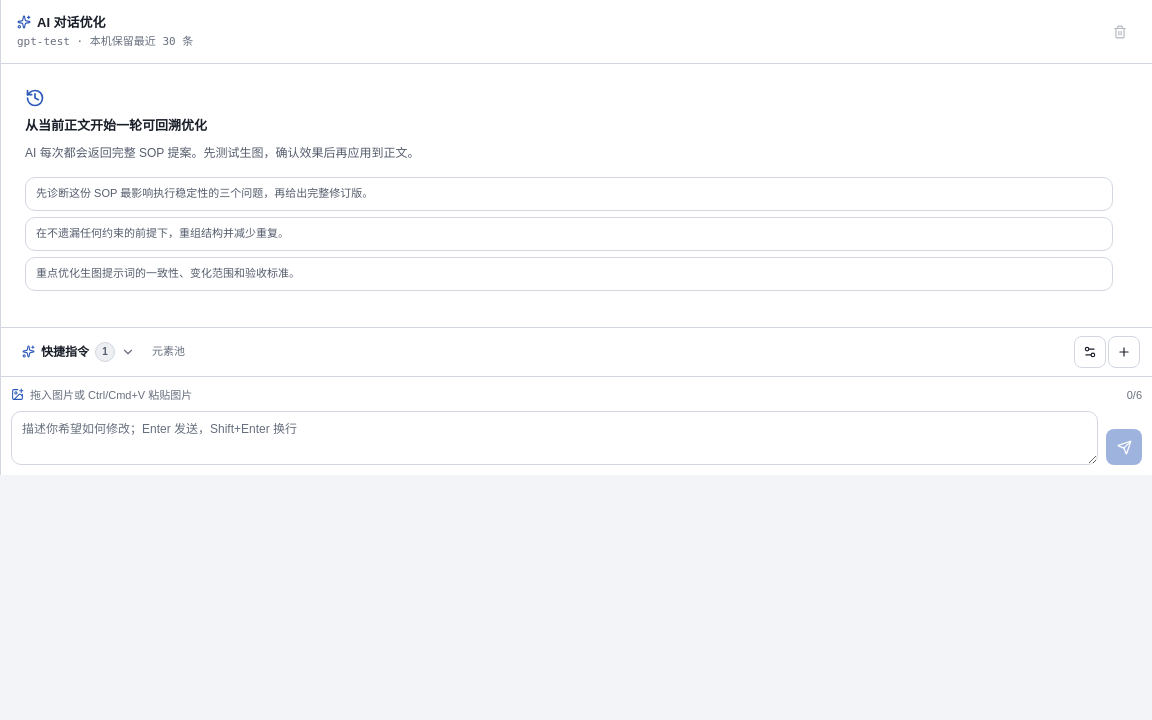
Test case: SopAiRevisionPanel custom quick instructions › fills parameterized instructions with selected values instead of placeholders
Click the button "快捷指令 1" at (78, 352), box [13, 336, 144, 368]
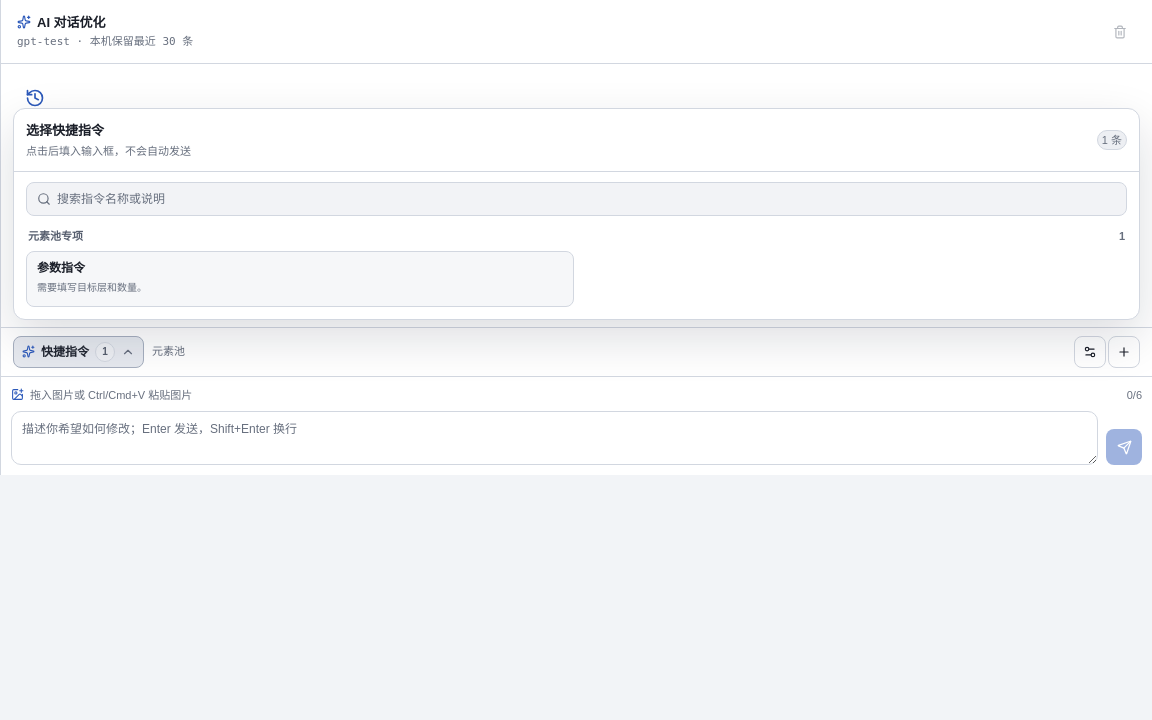
Click the button "参数指令 需要填写目标层和数量。" at (61, 268), box [26, 250, 574, 306]
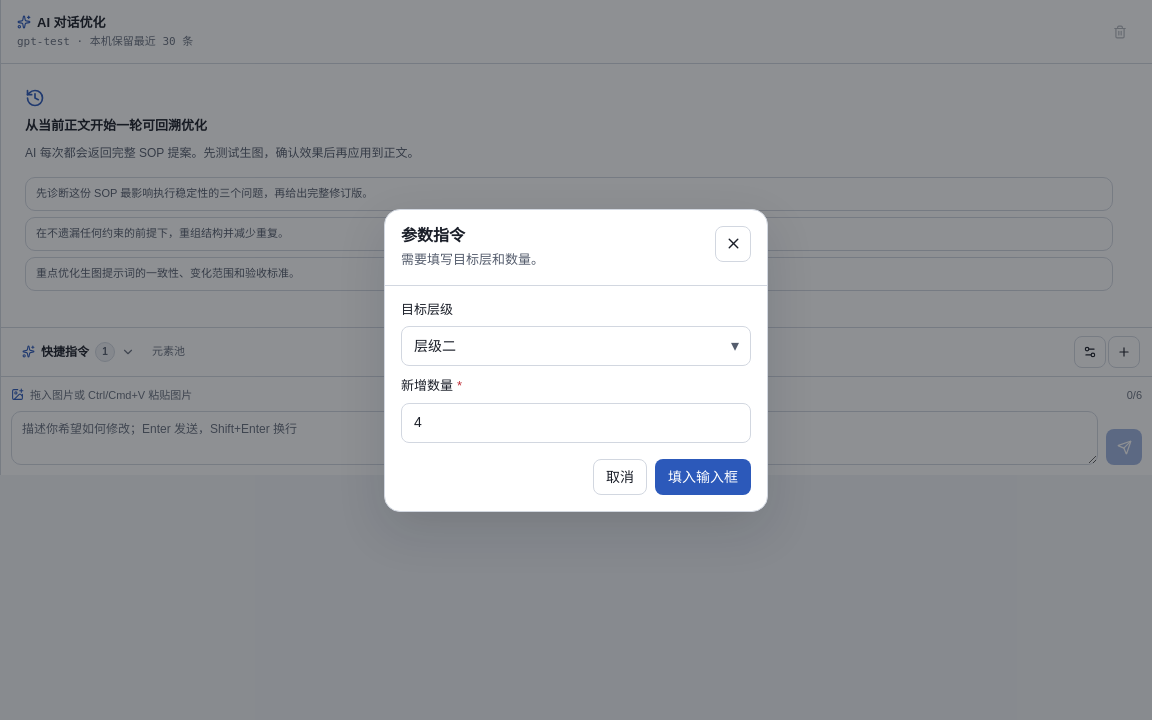
Select "层级二" in the dropdown labelled "目标层级" at (576, 346), box [401, 326, 751, 366]
Replace the text in the number field labelled "新增数量*" with "6" at (576, 422), box [401, 402, 751, 442]
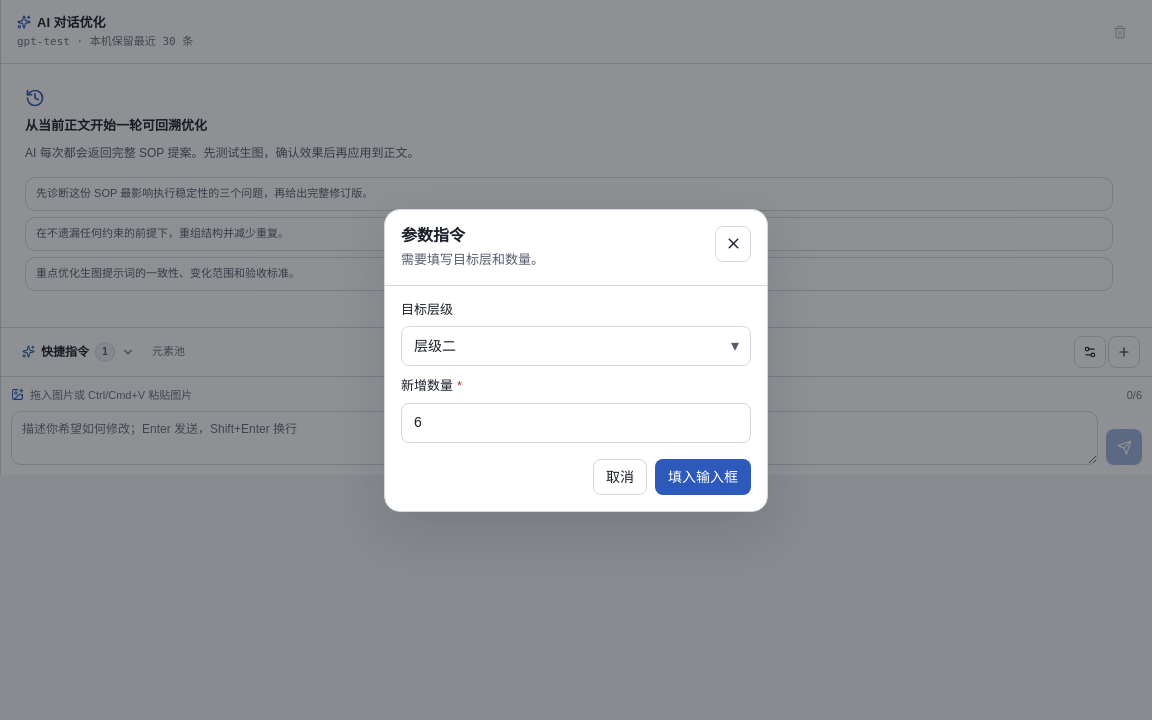
Click the button "填入输入框" at (703, 476), box [655, 458, 751, 494]
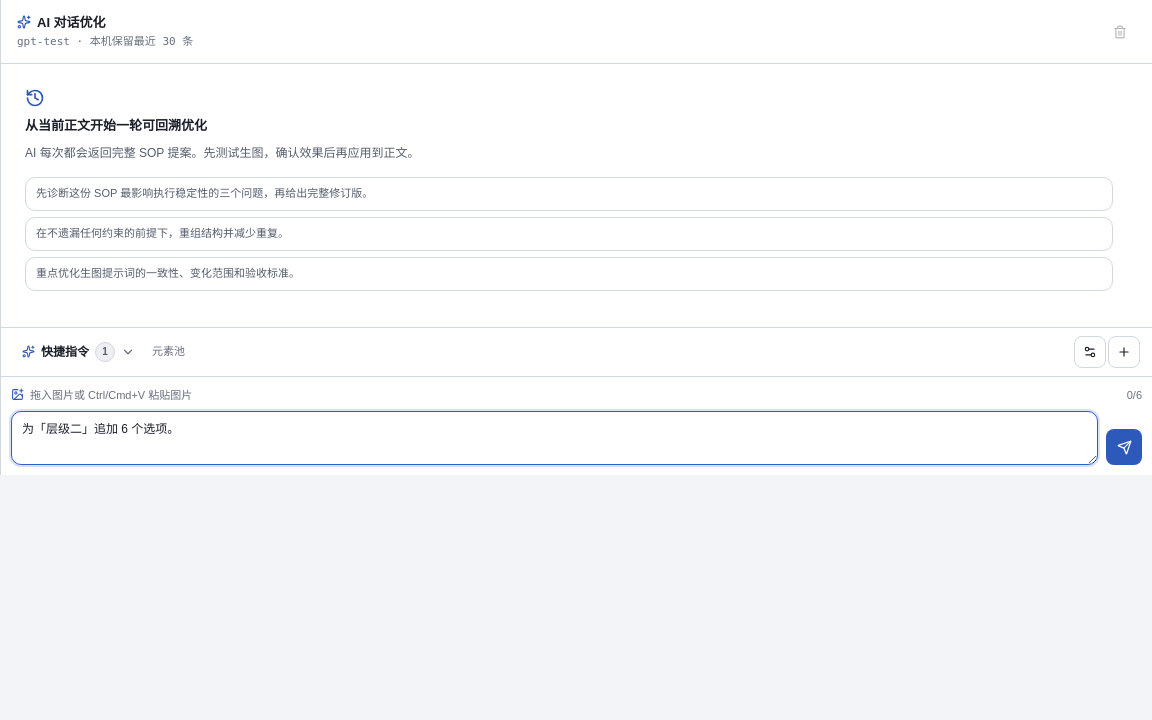
Expected: the text box named "向 AI 描述 SOP 修改要求" holds "为「层级二」追加 6 个选项。", [11, 411, 1098, 465]
